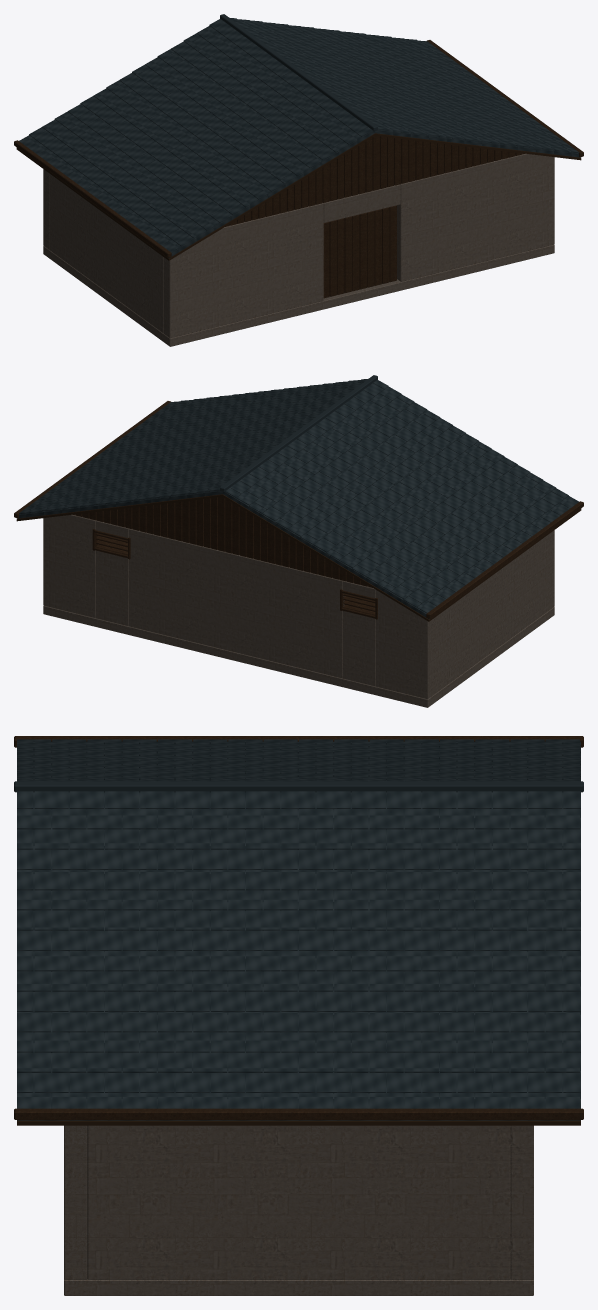
Rendered from s_caravan_store.glb.
3 renders of one model, top to bottom at view 1: azimuth 30°, elevation 25°; view 2: azimuth 150°, elevation 25°; view 3: azimuth 270°, elevation 25°, orthographic. The views are drawn at different scales.
Visible parts, largest first — view 1: slate roof, floor, vent jamb, Door plank.005, Door plank.003, Door plank.001, Door plank, Door plank.006, Door plank.008, Door plank.009, Door plank.007, Door plank.002 (+1 smaller); view 2: slate roof, floor, vent jamb; view 3: slate roof, floor, vent jamb, loading wall pier-colonly.001.
Boxes of the visible parts, bbox=[...] form: slate roof: bbox=[19, 14, 581, 257]; floor: bbox=[43, 153, 554, 346]; vent jamb: bbox=[14, 40, 583, 260]; Door plank.005: bbox=[359, 212, 367, 289]; Door plank.003: bbox=[329, 220, 337, 296]; Door plank.001: bbox=[344, 216, 352, 292]; Door plank: bbox=[352, 214, 359, 291]; Door plank.006: bbox=[367, 211, 374, 287]; Door plank.008: bbox=[382, 207, 389, 283]; Door plank.009: bbox=[389, 205, 396, 282]; Door plank.007: bbox=[374, 209, 381, 285]; Door plank.002: bbox=[337, 218, 344, 294]; slate roof: bbox=[16, 375, 578, 618]; floor: bbox=[43, 515, 554, 707]; vent jamb: bbox=[14, 401, 583, 621]; slate roof: bbox=[14, 739, 583, 1120]; floor: bbox=[64, 1125, 533, 1295]; vent jamb: bbox=[14, 736, 583, 1125]; loading wall pier-colonly.001: bbox=[65, 1125, 87, 1279].
Size of what is drawn, in the model's own units: 15.16 by 6.37 by 9.7.
4 materials, 4 textured.
